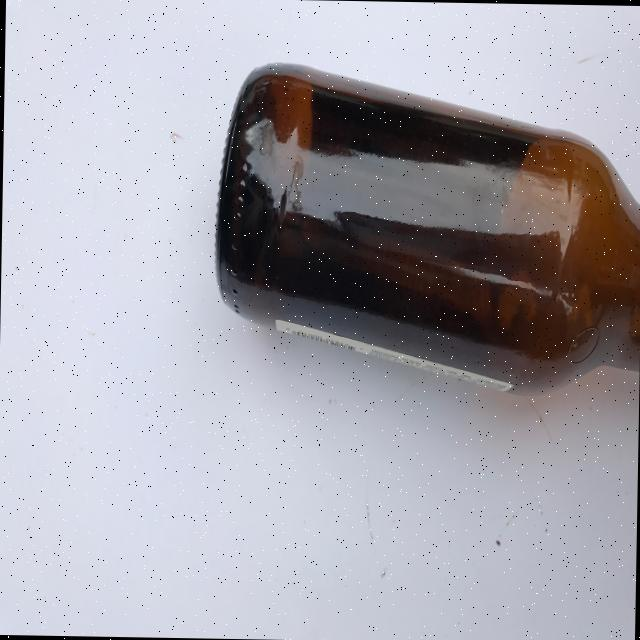glass: (210, 59, 640, 398)
